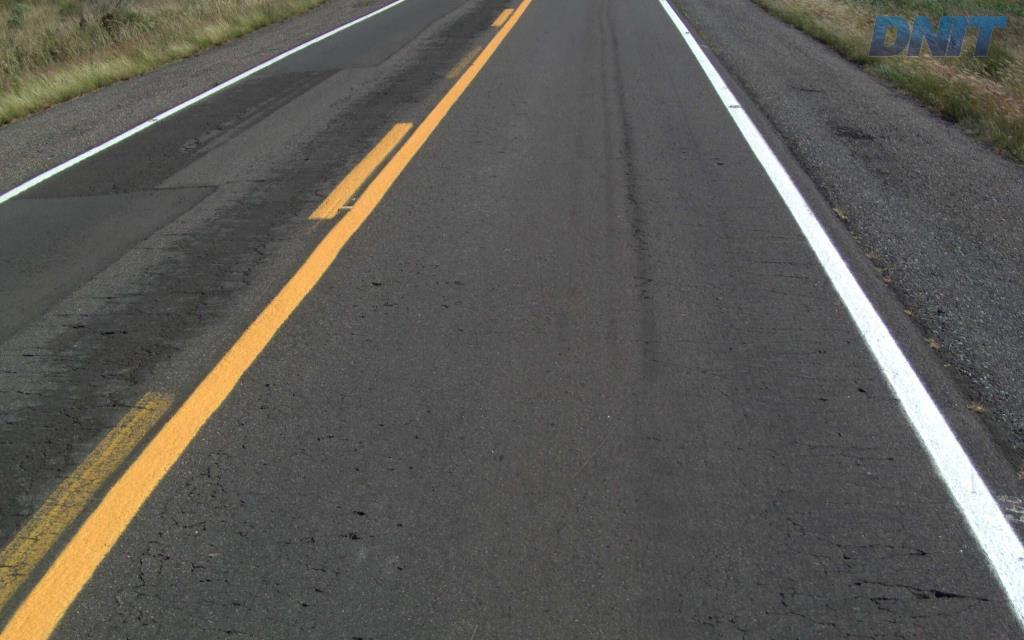crack: (847, 578, 970, 601)
